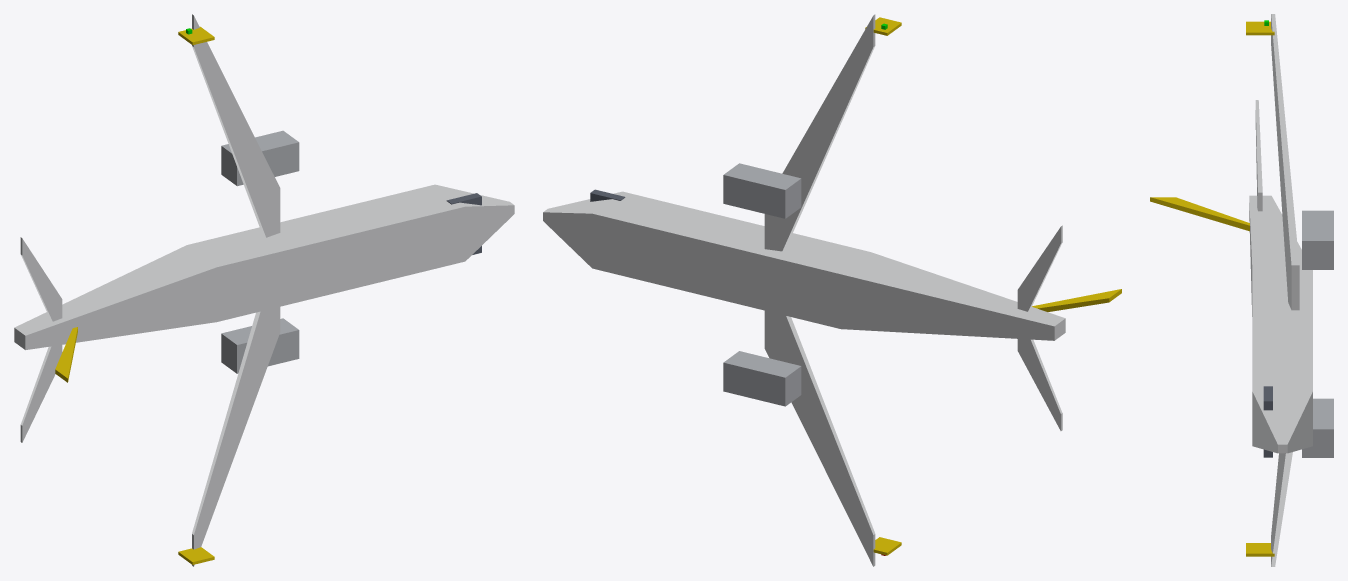
The model's file is aircraft.glb.
3 renders of one model, left to right at view 1: azimuth 30°, elevation 25°; view 2: azimuth 150°, elevation 25°; view 3: azimuth 270°, elevation 25°, orthographic.
Visible parts, largest first — view 1: aircraft; view 2: aircraft; view 3: aircraft.
Boxes of the visible parts, left/top/right/bottom form: aircraft: left=14, top=14, right=514, bottom=566; aircraft: left=543, top=14, right=1121, bottom=566; aircraft: left=1150, top=14, right=1333, bottom=566.
Size of the model in its own units: 37 by 38.2 by 11.5.
